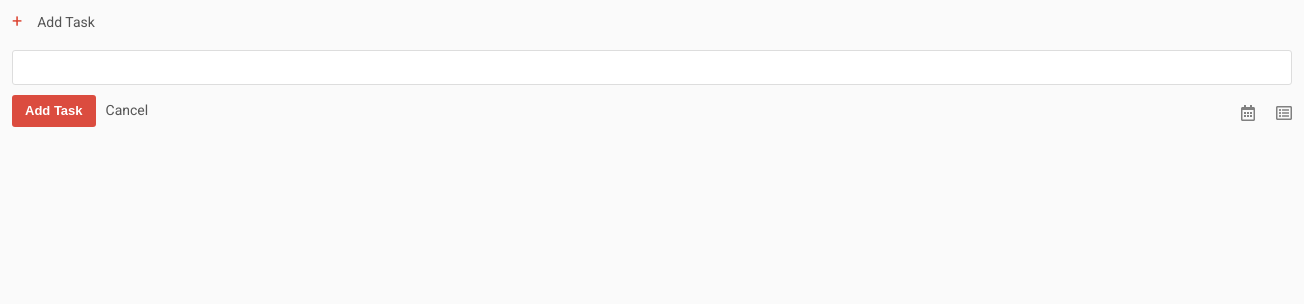
Test case: AddTask › should toggle task date overlay when date icon is clicked
Click the button with test id "show-task-date-overlay": x=1248, y=114 [1240,105,1256,124]
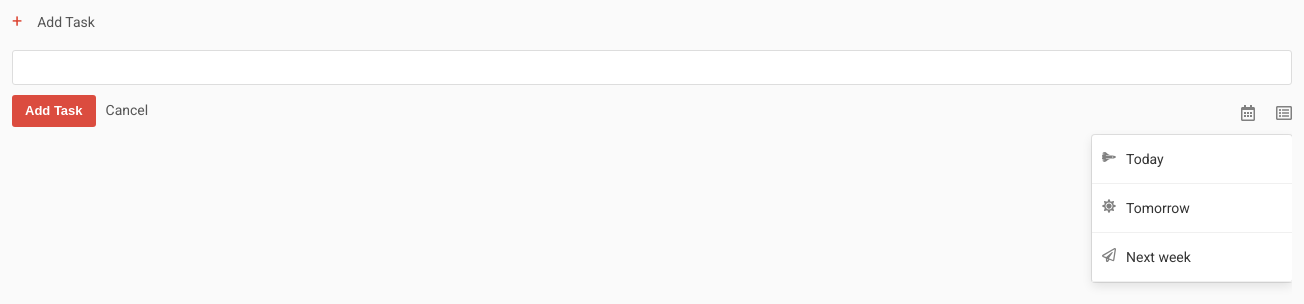
Expected: the element with test id "task-date-overlay" is shown, [1092,135,1292,282]
Click the button with test id "show-task-date-overlay": x=1248, y=114 [1240,105,1256,124]
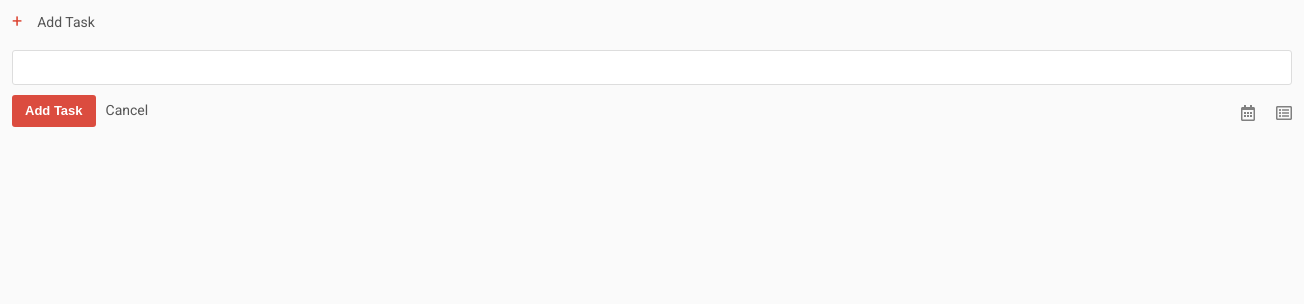
Expected: the element with test id "task-date-overlay" is gone
